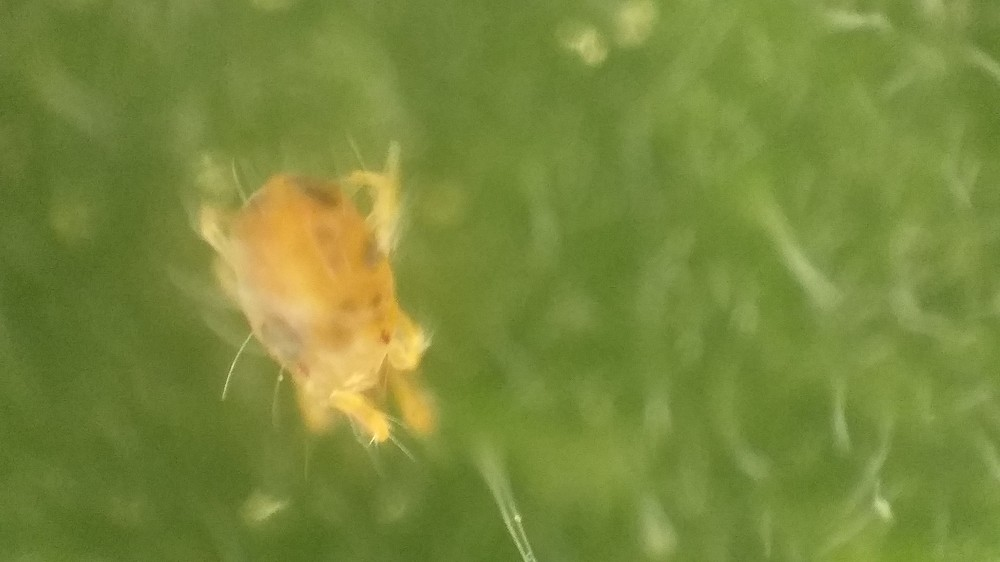Aracnido Rojo: (164, 144, 470, 450)
